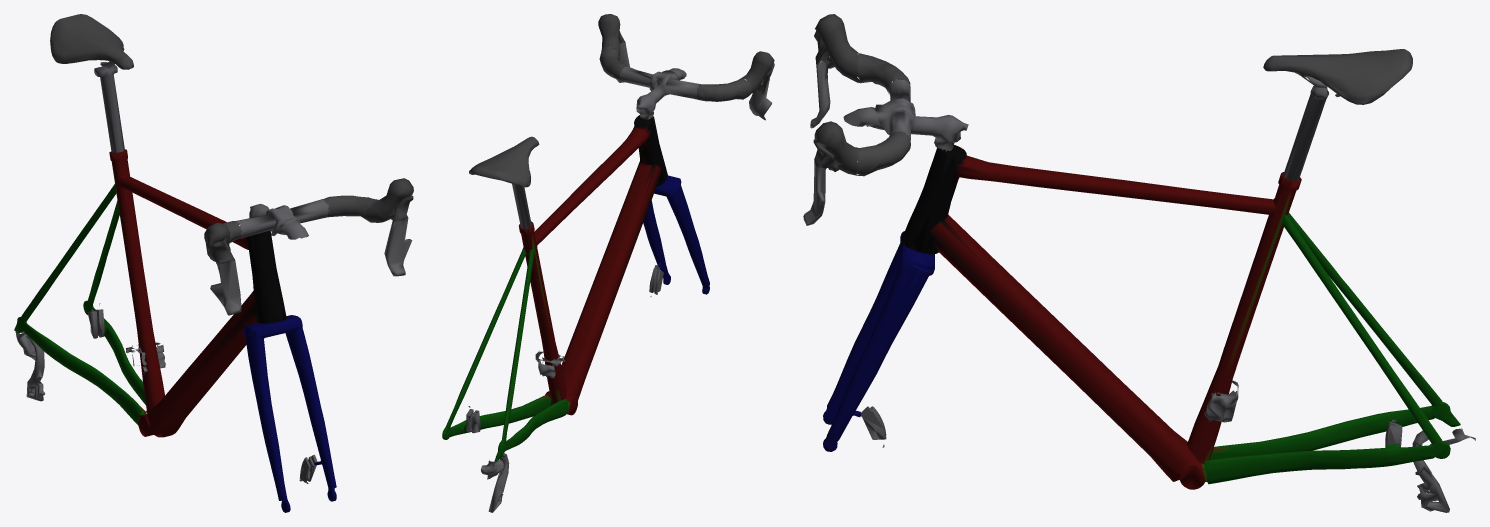
The model's file is look785l_lod2.glb.
3 renders of one model, left to right at view 1: azimuth 30°, elevation 25°; view 2: azimuth 150°, elevation 25°; view 3: azimuth 270°, elevation 25°, orthographic. The views are drawn at different scales.
Parts seen in each view (by area): view 1: frame, cockpit, fork, saddle, seatpost; view 2: frame, cockpit, fork, saddle, seatpost; view 3: frame, cockpit, fork, saddle, seatpost.
Boxes of the visible parts, x1,y1,x2,y2 form: frame: (14, 149, 286, 437); cockpit: (204, 178, 413, 315); fork: (243, 315, 336, 512); saddle: (50, 14, 133, 69); seatpost: (94, 64, 124, 152); frame: (442, 115, 667, 512); cockpit: (598, 14, 774, 120); fork: (643, 175, 709, 294); saddle: (469, 136, 539, 187); seatpost: (512, 184, 531, 228); frame: (901, 145, 1475, 512); cockpit: (803, 14, 968, 225); fork: (823, 231, 934, 451); saddle: (1263, 49, 1412, 104); seatpost: (1283, 85, 1328, 180).
Bounding box in the file's own units: 0.4733 × 0.8534 × 1.11.
